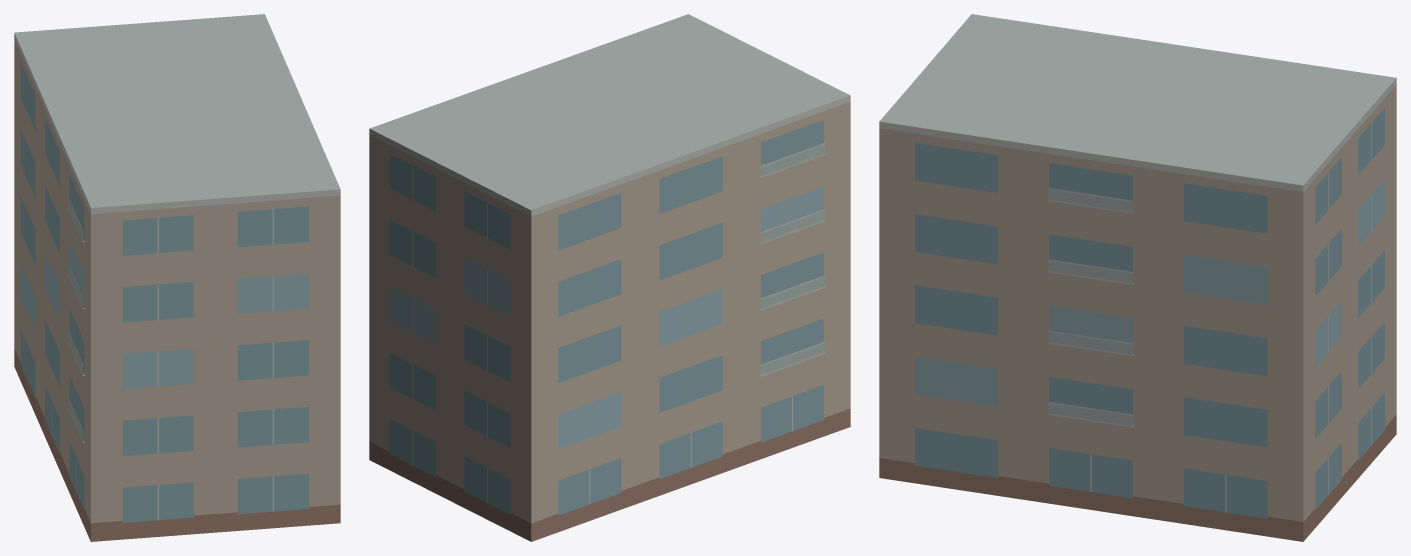
The model's file is survey-upis-32854266.glb.
3 renders of one model, left to right at view 1: azimuth 30°, elevation 25°; view 2: azimuth 150°, elevation 25°; view 3: azimuth 270°, elevation 25°, orthographic. The views are drawn at different scales.
Visible parts, largest first — view 1: survey-upis-32854266.tmp; view 2: survey-upis-32854266.tmp; view 3: survey-upis-32854266.tmp.
Boxes of the visible parts, <box> form: survey-upis-32854266.tmp: <box>14,14,340,541</box>; survey-upis-32854266.tmp: <box>369,14,850,541</box>; survey-upis-32854266.tmp: <box>879,14,1396,541</box>.
Bounding box in the file's own units: 13.43 × 13 × 17.11.
